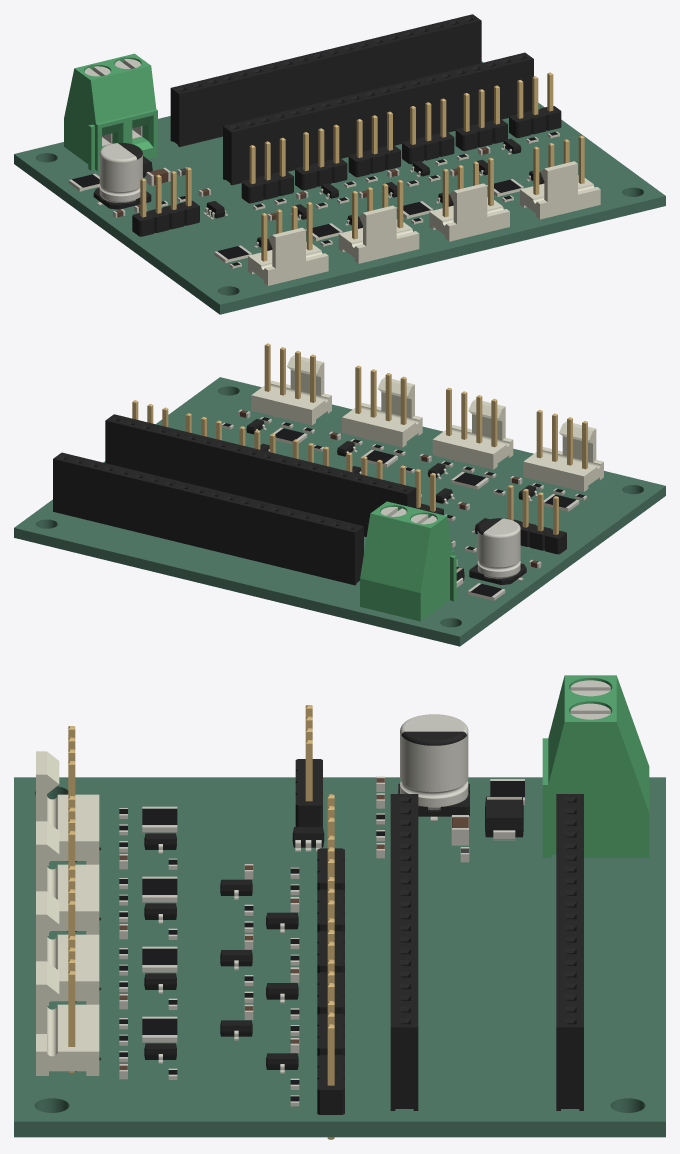
The model's file is fan_controller.glb.
3 renders of one model, top to bottom at view 1: azimuth 30°, elevation 25°; view 2: azimuth 150°, elevation 25°; view 3: azimuth 270°, elevation 25°, orthographic. The views are drawn at different scales.
Parts seen in each view (by area): view 1: =>[0:1:1:30], =>[0:1:1:17] (×2), =>[0:1:1:19] (×4), =>[0:1:1:11] (×6), =>[0:1:1:15], =>[0:1:1:9], =>[0:1:1:27]; view 2: =>[0:1:1:30], =>[0:1:1:17] (×2), =>[0:1:1:19] (×4), =>[0:1:1:15], =>[0:1:1:9], =>[0:1:1:27], =>[0:1:1:11]; view 3: =>[0:1:1:30], =>[0:1:1:19] (×4), =>[0:1:1:17] (×2), =>[0:1:1:15], =>[0:1:1:11] (×6), =>[0:1:1:9], =>[0:1:1:7] (×4), =>[0:1:1:27], =>[0:1:1:29], =>[0:1:1:21].
Part boxes in pixels (x1=…): =>[0:1:1:30]: x1=14, y1=61, x2=665, y2=314; =>[0:1:1:17] (×2): x1=170, y1=14, x2=533, y2=185; =>[0:1:1:19] (×4): x1=248, y1=135, x2=600, y2=285; =>[0:1:1:11] (×6): x1=241, y1=72, x2=561, y2=203; =>[0:1:1:15]: x1=64, y1=53, x2=157, y2=171; =>[0:1:1:9]: x1=93, y1=143, x2=151, y2=209; =>[0:1:1:27]: x1=132, y1=167, x2=199, y2=236; =>[0:1:1:30]: x1=14, y1=377, x2=665, y2=646; =>[0:1:1:17] (×2): x1=53, y1=414, x2=416, y2=585; =>[0:1:1:19] (×4): x1=251, y1=343, x2=603, y2=491; =>[0:1:1:15]: x1=360, y1=501, x2=456, y2=621; =>[0:1:1:9]: x1=469, y1=518, x2=526, y2=584; =>[0:1:1:27]: x1=506, y1=485, x2=566, y2=554; =>[0:1:1:11]: x1=400, y1=465, x2=443, y2=515; =>[0:1:1:30]: x1=14, y1=777, x2=665, y2=1137; =>[0:1:1:19] (×4): x1=36, y1=726, x2=99, y2=1075; =>[0:1:1:17] (×2): x1=390, y1=794, x2=583, y2=1110; =>[0:1:1:15]: x1=542, y1=675, x2=649, y2=857; =>[0:1:1:11] (×6): x1=317, y1=794, x2=344, y2=1139; =>[0:1:1:9]: x1=398, y1=714, x2=469, y2=820; =>[0:1:1:7] (×4): x1=142, y1=806, x2=177, y2=1042; =>[0:1:1:27]: x1=295, y1=705, x2=322, y2=826; =>[0:1:1:29]: x1=485, y1=796, x2=523, y2=840; =>[0:1:1:21]: x1=292, y1=827, x2=324, y2=851.
Bounding box in the file's own units: 0.075 × 0.0173 × 0.06.
